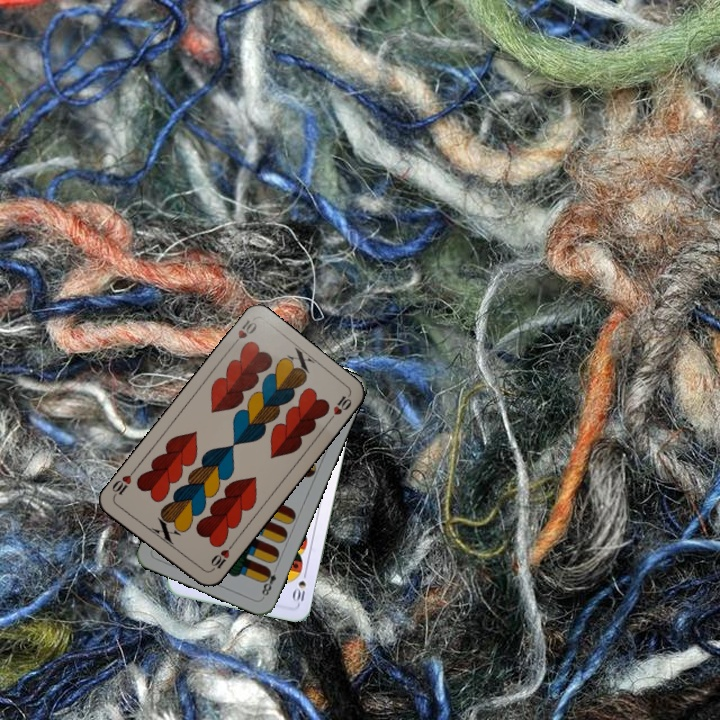E8: (257, 564, 279, 600)
H10: (227, 315, 259, 351), (206, 540, 236, 575)
S10: (289, 566, 310, 606)
